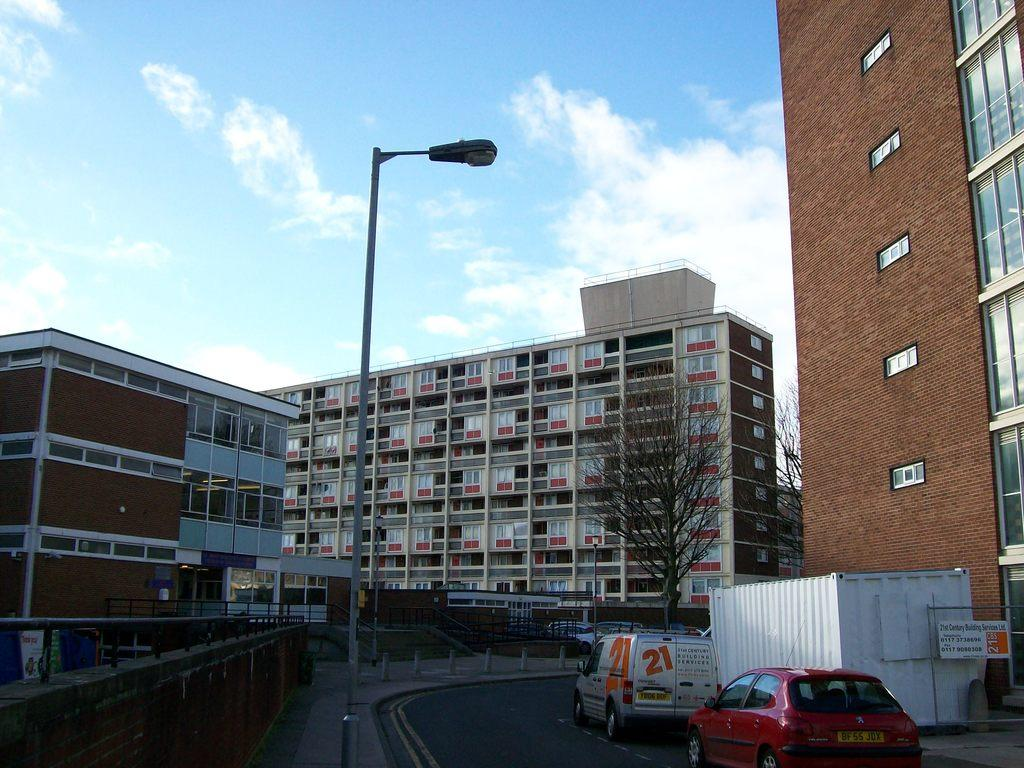vehicle: (688, 667, 922, 768), (573, 630, 722, 742)
